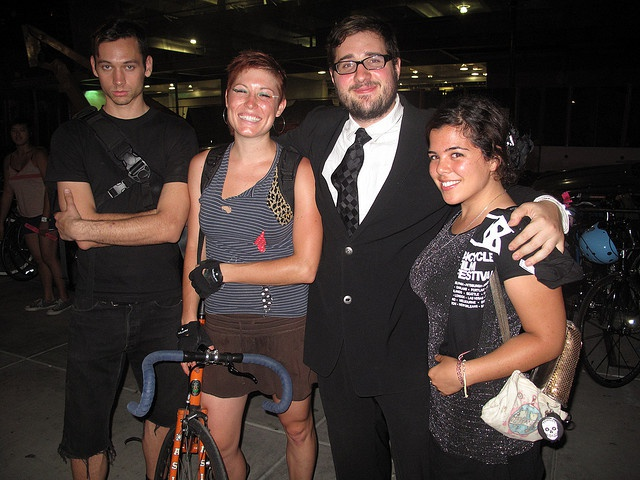non-vehicle: (128, 349, 294, 480), (570, 198, 637, 385), (0, 210, 34, 283)
